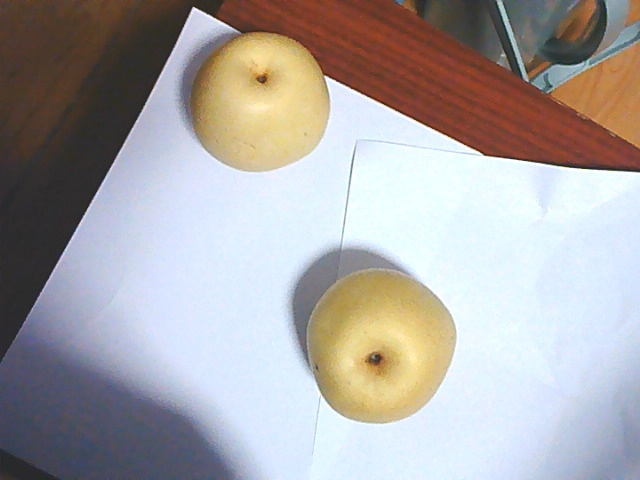pear: (306, 266, 458, 423), (188, 32, 330, 176)
